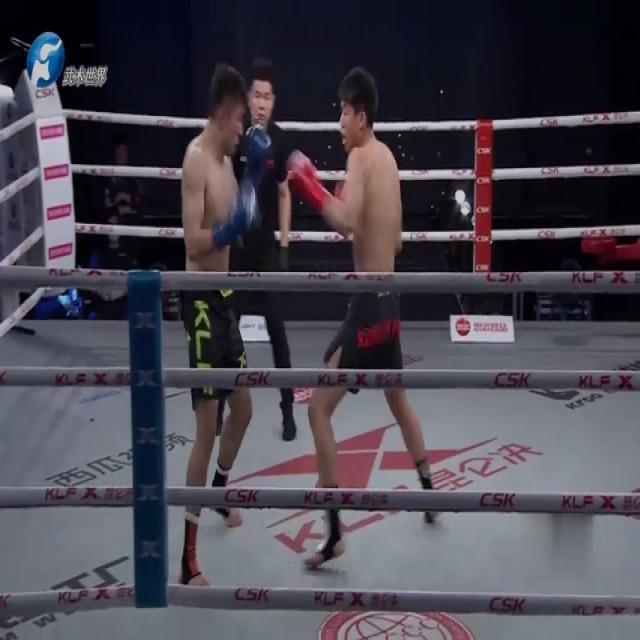fight: (285, 63, 440, 578), (168, 57, 279, 594)
non-fight: (205, 60, 300, 442)
